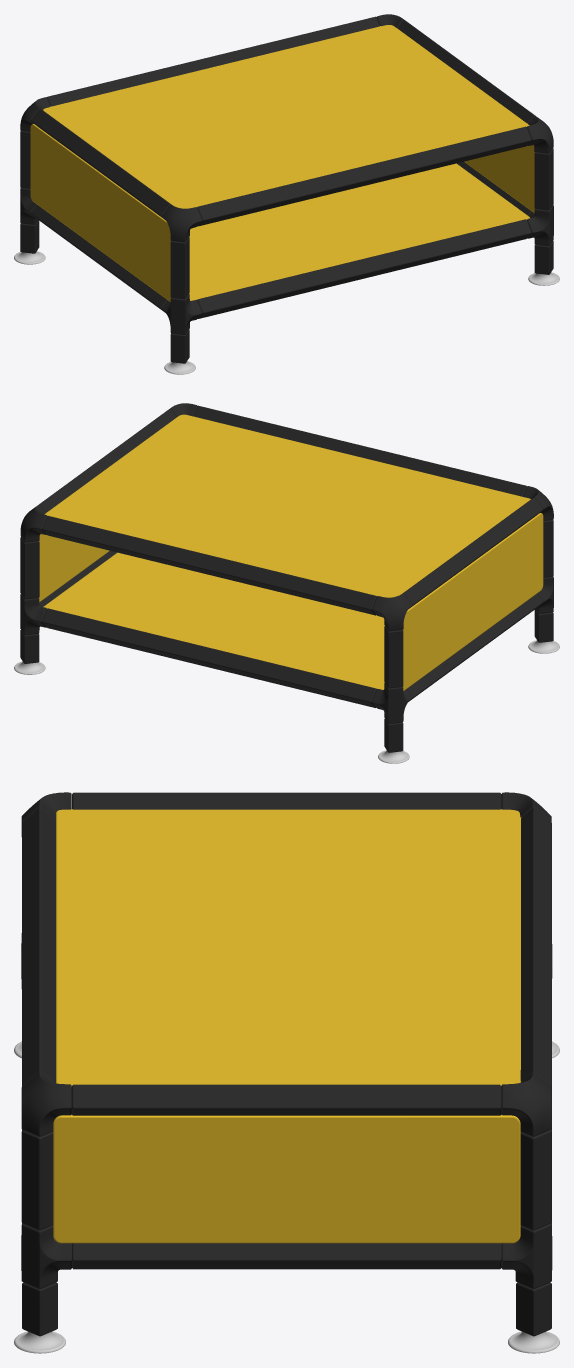
3 views of the same model, one above another, from view 1: azimuth 30°, elevation 25°; view 2: azimuth 150°, elevation 25°; view 3: azimuth 270°, elevation 25° (orthographic). The views are drawn at different scales.
Visible parts, largest first — view 1: 479x329x79; view 2: 479x329x79; view 3: 479x329x79.
Part boxes in pixels (<box>): 479x329x79: <box>14,14,559,374</box>; 479x329x79: <box>14,403,559,763</box>; 479x329x79: <box>14,792,559,1353</box>.
Size of the model in its own units: 0.5689 by 0.2183 by 0.4182.
